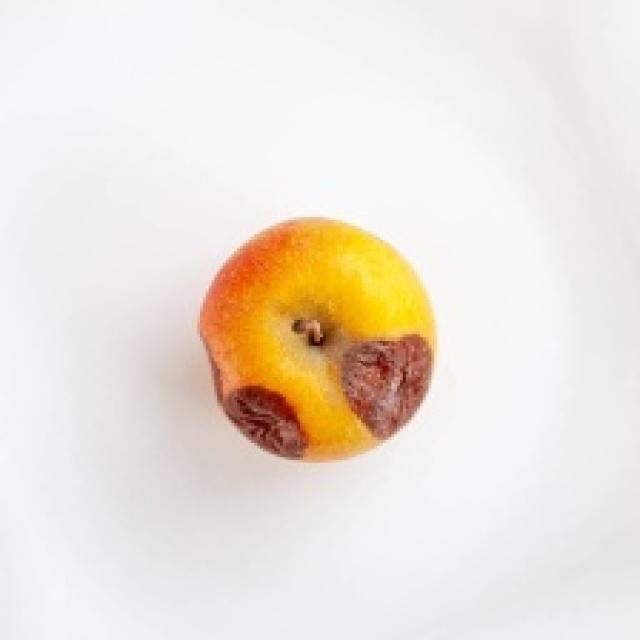rotten_apple: (204, 224, 435, 454)
